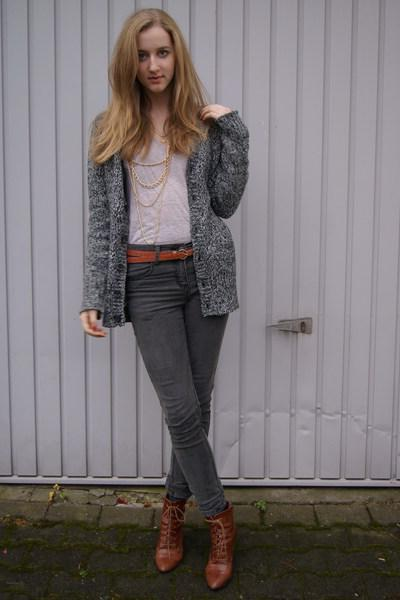jacket: (78, 99, 253, 329)
short sleeve shirt: (121, 116, 203, 253)
trousers: (118, 240, 233, 508)
